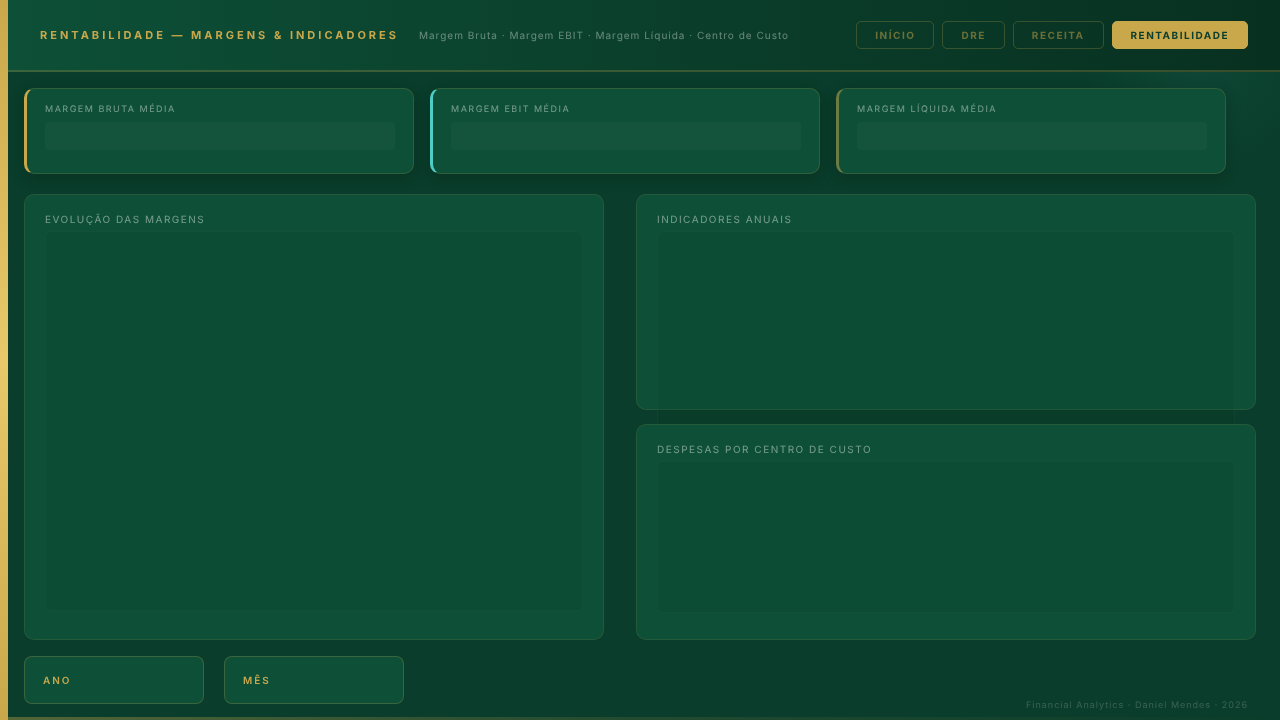

The dashboard page shown, as its layout file describes it:
{"tool":"powerbi","page":{"name":"Rentabilidade","canvas":[1920,1080],"ordinal":3},"visuals":[{"type":"actionButton","box":[1286.7,29,108.6,39.8],"z":0},{"type":"actionButton","box":[1416.1,28.8,88.5,39.1],"z":1},{"type":"actionButton","box":[1532.8,29,108.6,39.8],"z":2},{"type":"cardVisual","fields":{"Data":["_Medidas.Margem Bruta %"]},"box":[71.6,138.9,516.5,95.5],"z":3},{"type":"cardVisual","fields":{"Data":["_Medidas.Margem EBIT %"]},"box":[681.4,138.9,516.5,95.5],"z":4},{"type":"cardVisual","fields":{"Data":["_Medidas.Margem Liquida %"]},"box":[1286.8,138.9,523,95.5],"z":5},{"type":"lineChart","fields":{"Category":["vw_Indicadores_Rentabilidade.ano"],"Y":["_Medidas.Margem Bruta %","_Medidas.Margem EBIT %","_Medidas.Margem Liquida %"]},"box":[71.6,355.9,789.9,549],"z":6},{"type":"tableEx","fields":{"Values":["vw_Indicadores_Rentabilidade.ano","_Medidas.Receita Liquida","_Medidas.EBIT","_Medidas.Lucro Liquido","_Medidas.Margem Liquida %"]},"box":[998.2,355.9,842,245.2],"z":7},{"type":"clusteredBarChart","fields":{"Category":["vw_Despesas_Centro_Custo.Centro_Custo"],"Y":["Sum(vw_Despesas_Centro_Custo.Total_Despesas)"]},"box":[998.2,694.4,842,210.5],"z":8},{"type":"slicer","fields":{"Values":["vw_Despesas_Centro_Custo.ano"]},"box":[119.3,998.2,182.3,45.6],"z":9},{"type":"slicer","fields":{"Values":["vw_Despesas_Centro_Custo.mes"]},"box":[421,998.2,182.3,45.6],"z":10}]}

Visuals, with their boxes in screenshot pixels (x1, y1, x2, y2), scaled from the page's 1920x1080 canvas onto the 1280x720 screenshot:
actionButton: select_region(858, 19, 930, 46)
actionButton: select_region(944, 19, 1003, 45)
actionButton: select_region(1022, 19, 1094, 46)
cardVisual - _Medidas.Margem Bruta %: select_region(48, 93, 392, 156)
cardVisual - _Medidas.Margem EBIT %: select_region(454, 93, 799, 156)
cardVisual - _Medidas.Margem Liquida %: select_region(858, 93, 1207, 156)
lineChart - vw_Indicadores_Rentabilidade.ano x _Medidas.Margem Bruta %: select_region(48, 237, 574, 603)
tableEx - vw_Indicadores_Rentabilidade.ano x _Medidas.Receita Liquida: select_region(665, 237, 1227, 401)
clusteredBarChart - vw_Despesas_Centro_Custo.Centro_Custo x Sum(vw_Despesas_Centro_Custo.Total_Despesas): select_region(665, 463, 1227, 603)
slicer - vw_Despesas_Centro_Custo.ano: select_region(80, 665, 201, 696)
slicer - vw_Despesas_Centro_Custo.mes: select_region(281, 665, 402, 696)
